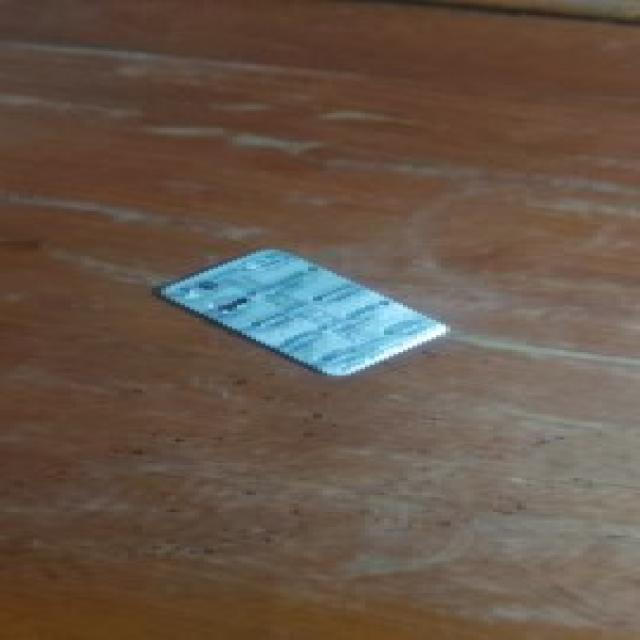Cacat: (149, 248, 462, 373)
Kemasan: (186, 274, 266, 315)
